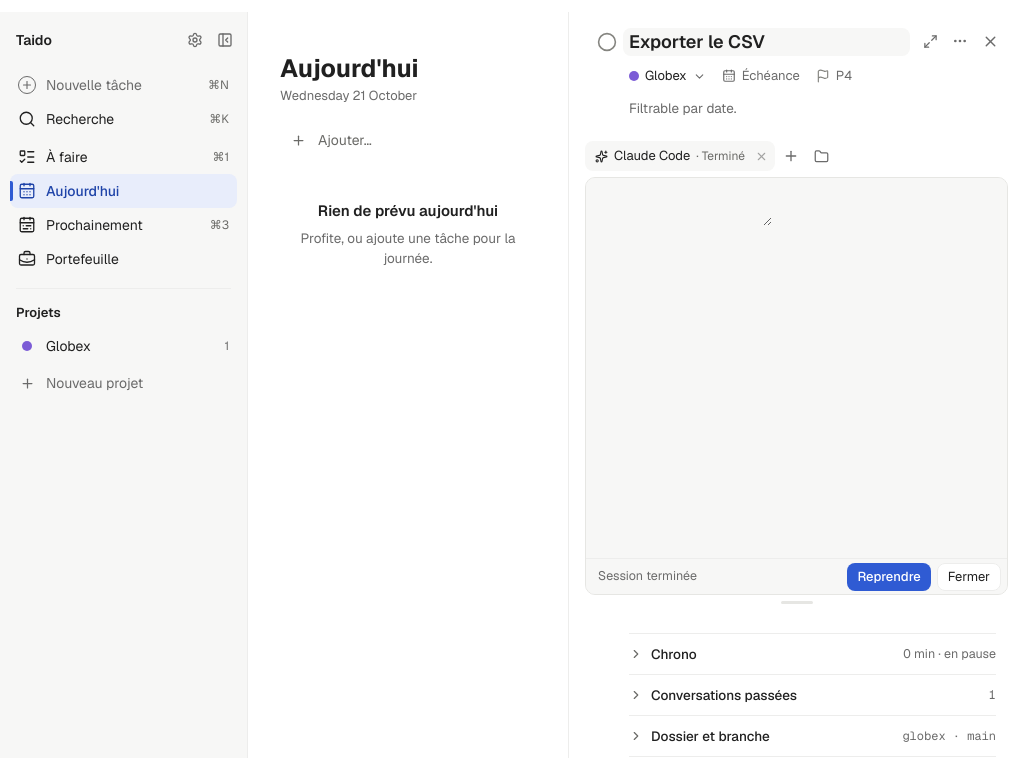
Test: « Conversations passées » history › recaps a session in one sentence: first message → last reply
expect the text box named "Titre de la tâche" is shown: met, box [623,28,910,56]
Click the button "Conversations passées 1": (724,695) [629,675,996,715]
(page scrolled)
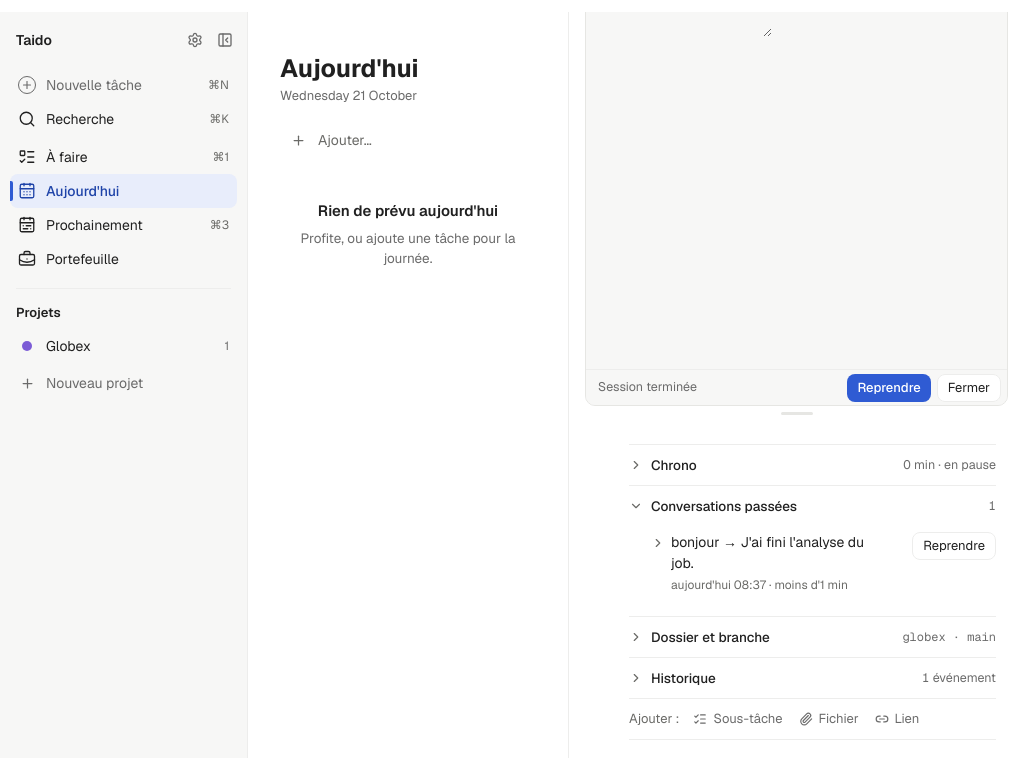
expect the text "bonjour → J'ai fini l'analyse du job." is shown: met, box [671,532,870,574]
expect the element showing "aujourd'hui 08:37 · moins d'1 min" is shown: met, box [671,576,870,594]
